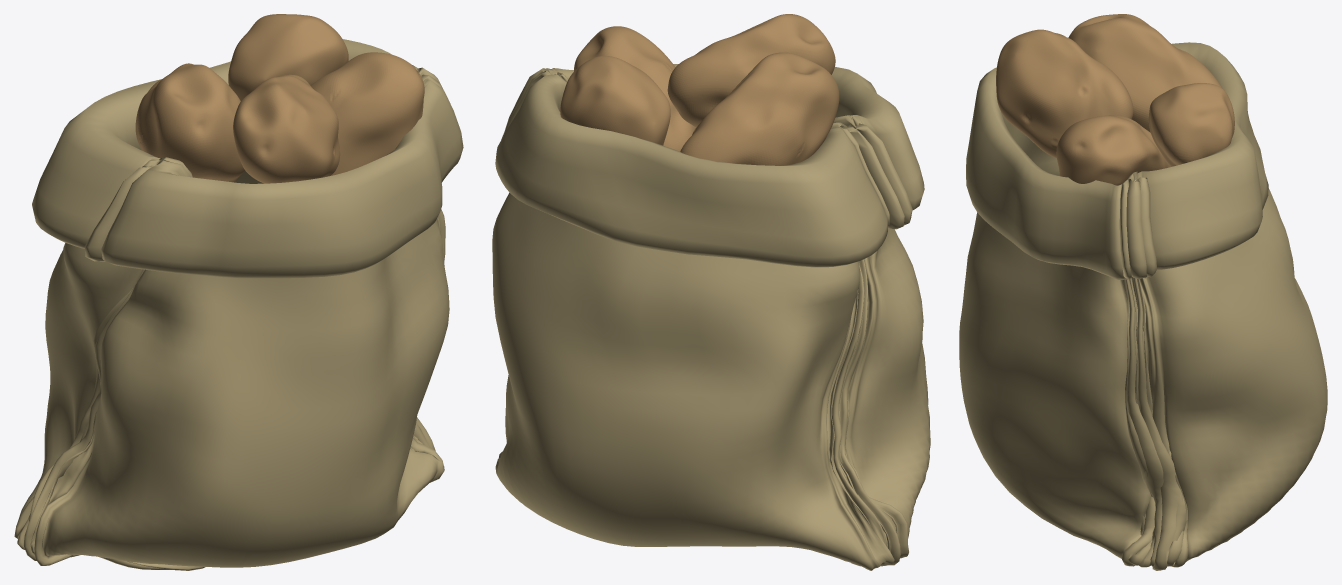
The model's file is potatoBagBFull.fbx.
3 views of the same model, side by side, from view 1: azimuth 30°, elevation 25°; view 2: azimuth 150°, elevation 25°; view 3: azimuth 270°, elevation 25° (orthographic). The views are drawn at different scales.
Visible parts, largest first — view 1: PotatoBag.B, PotatoB.005, PotatoB.007, PotatoB.006, PutatoA.006; view 2: PotatoBag.B, PotatoB.007, PotatoB.005, PutatoA.006, PotatoB.006; view 3: PotatoBag.B, PotatoB.005, PotatoB.007, PotatoB.006, PutatoA.006.
Part boxes in pixels (x1,y1,x2,y2): PotatoBag.B: [14, 39, 463, 570]; PotatoB.005: [233, 74, 340, 183]; PotatoB.007: [135, 63, 244, 182]; PotatoB.006: [311, 52, 424, 175]; PutatoA.006: [228, 14, 348, 100]; PotatoBag.B: [492, 64, 930, 570]; PotatoB.007: [680, 52, 839, 165]; PotatoB.005: [667, 14, 835, 127]; PutatoA.006: [560, 56, 670, 145]; PotatoB.006: [574, 26, 696, 151]; PotatoBag.B: [959, 42, 1327, 570]; PotatoB.005: [996, 29, 1133, 158]; PotatoB.007: [1068, 14, 1222, 132]; PotatoB.006: [1056, 115, 1170, 185]; PutatoA.006: [1148, 83, 1234, 166].
Bounding box in the file's own units: 173 × 197 × 141.
